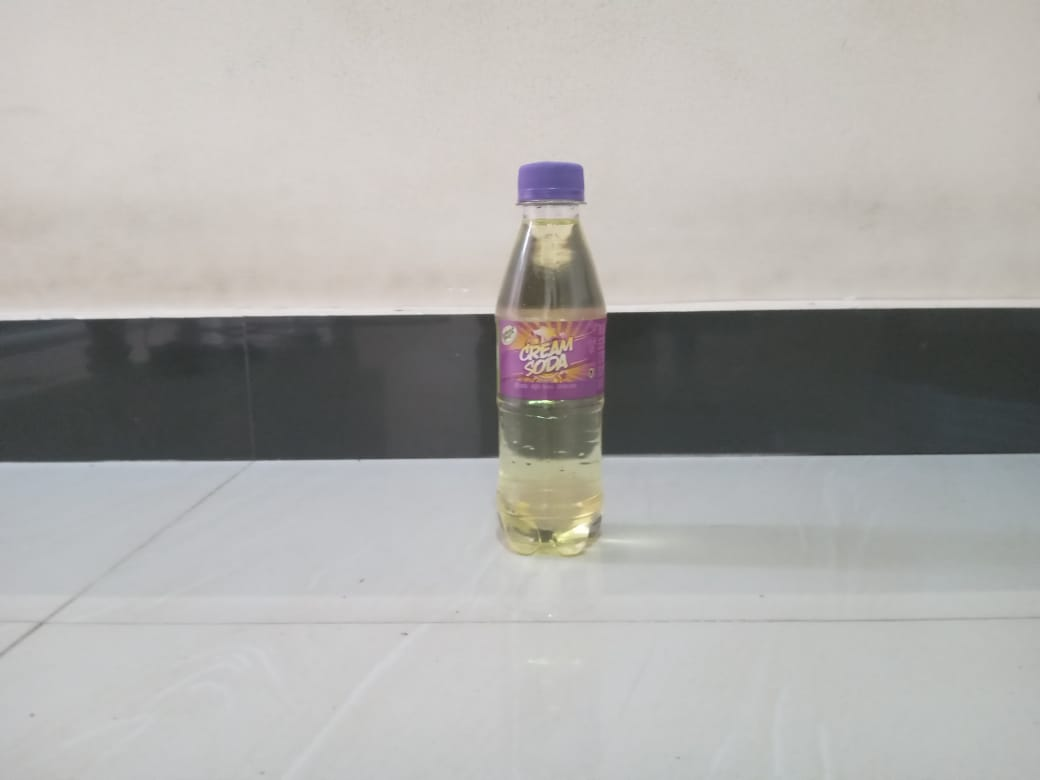Xs: (489, 154, 613, 573)
